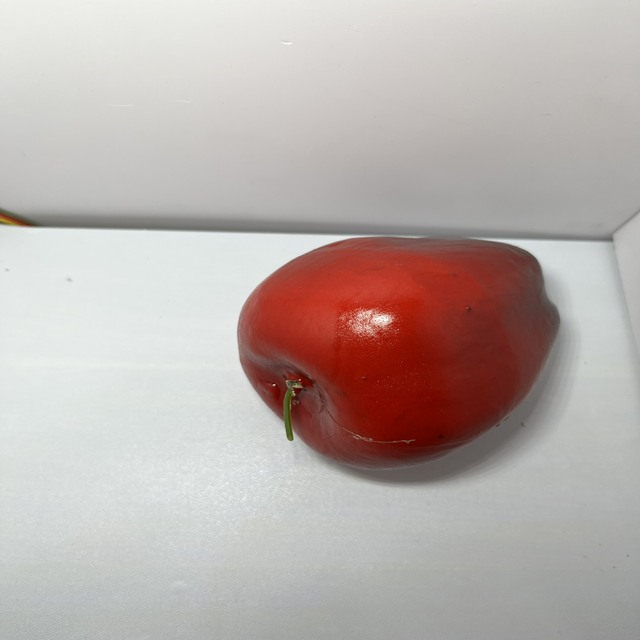Tao: (227, 232, 562, 478)
